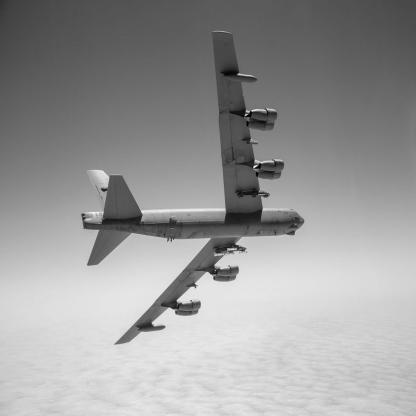B52: (82, 31, 305, 346)
